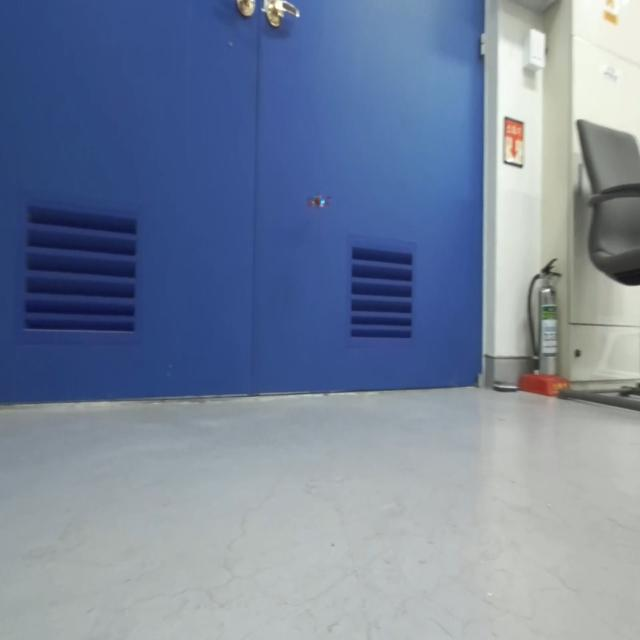crazyflie: (304, 187, 332, 215)
